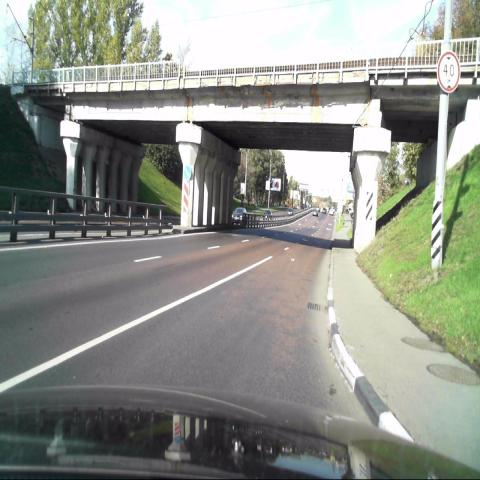3_13: (436, 49, 460, 92)
